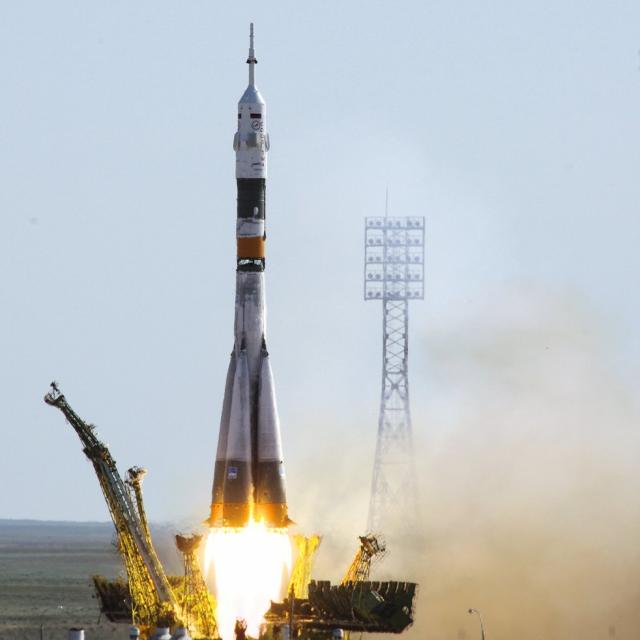rocket: (205, 16, 298, 576)
